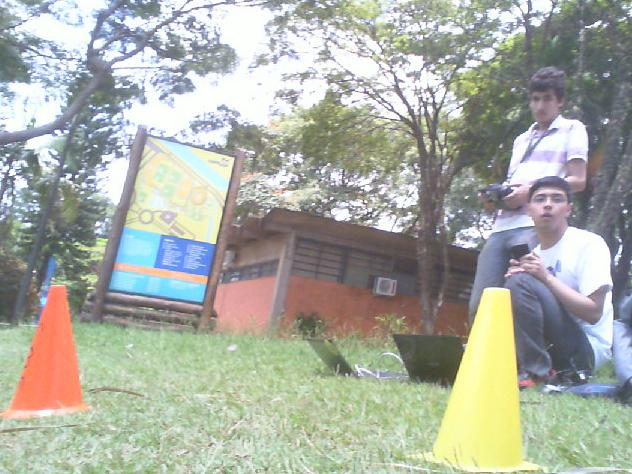0 cone: (404, 287, 542, 474), (0, 284, 89, 420)
